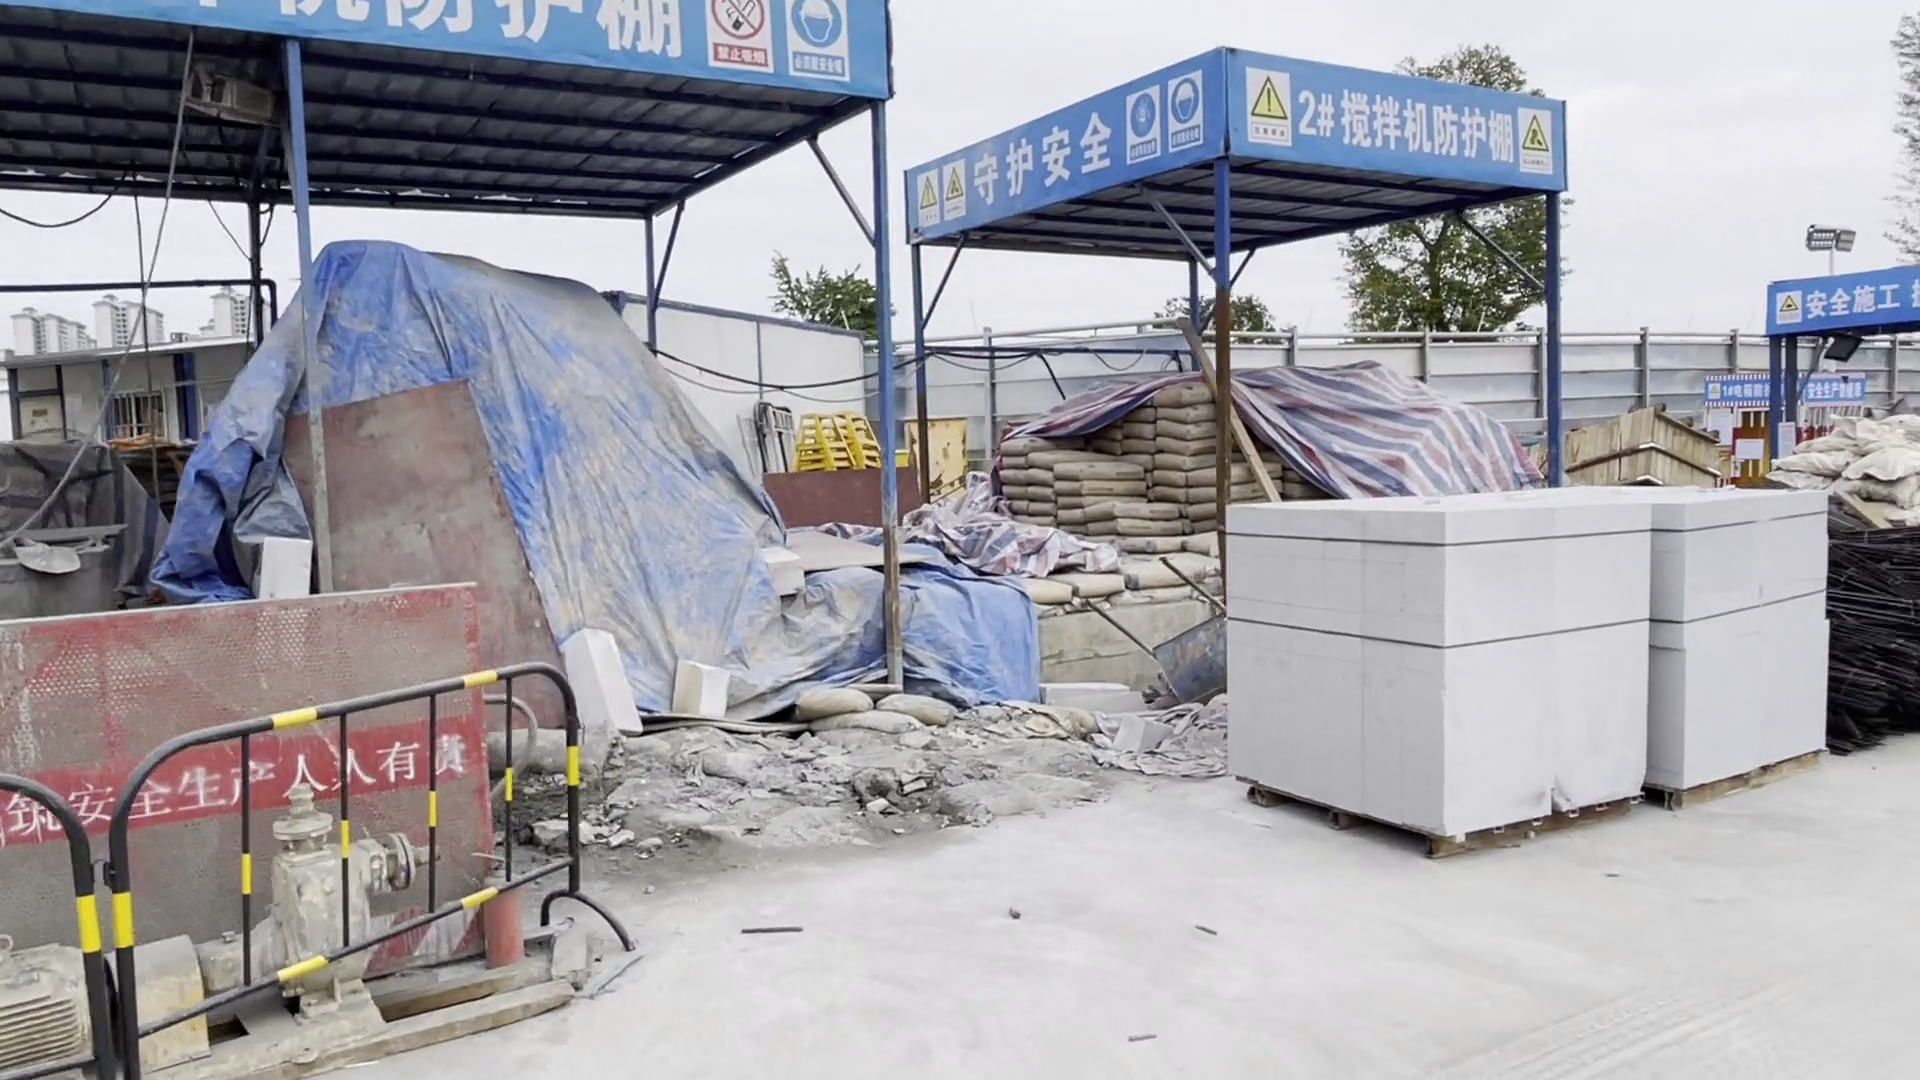brick: (1220, 487, 1662, 885), (1606, 480, 1845, 802)
ebox: (901, 411, 978, 506)
fence: (1, 568, 483, 955)
slogan: (960, 124, 1125, 208), (1782, 276, 1920, 324)
